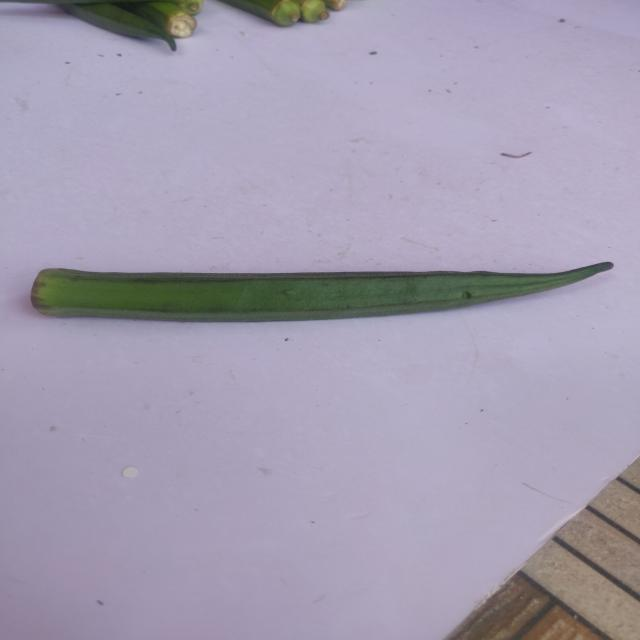Ladies Finger: (17, 249, 640, 338)
